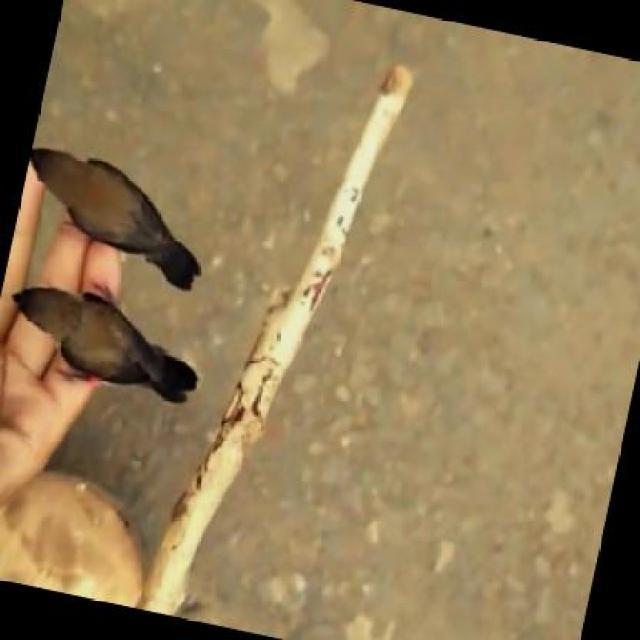Bird: (15, 132, 213, 276), (8, 281, 204, 409)
